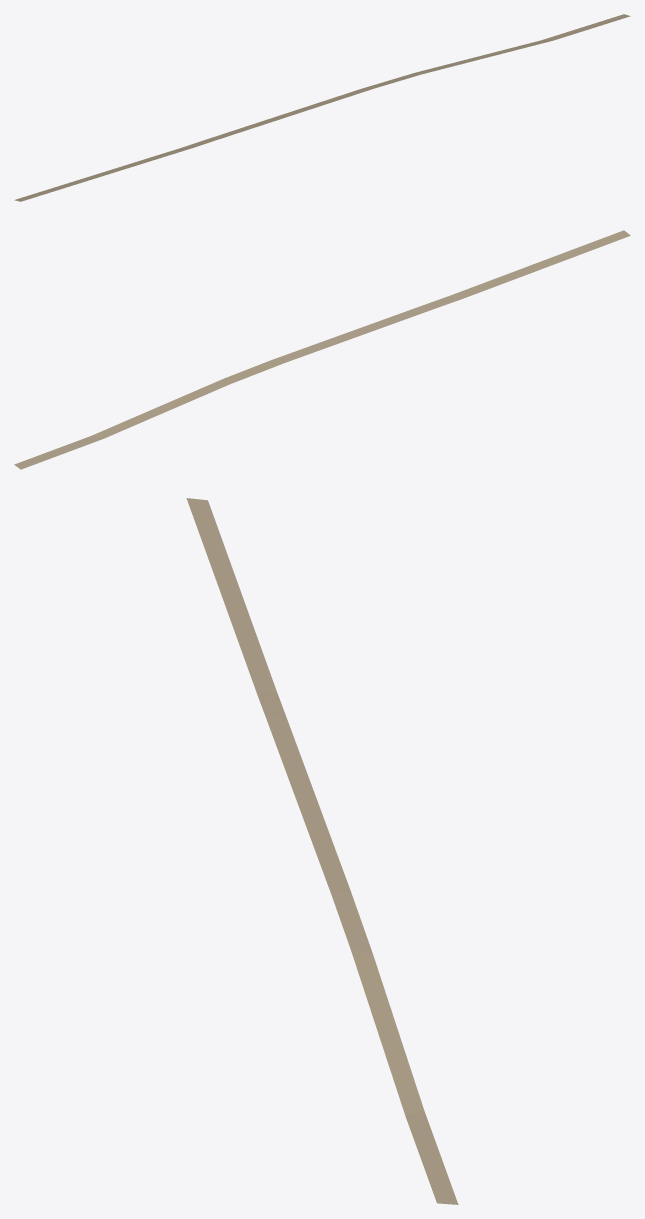
The model's file is farm_11_-2_track.glb.
3 views of the same model, one above another, from view 1: azimuth 30°, elevation 25°; view 2: azimuth 210°, elevation 25°; view 3: azimuth 270°, elevation 25° (orthographic). The views are drawn at different scales.
Visible parts, largest first — view 1: geometry_0; view 2: geometry_0; view 3: geometry_0.
Part boxes in pixels (left/top/right/bottom): geometry_0: left=14, top=14, right=630, bottom=201; geometry_0: left=14, top=230, right=630, bottom=469; geometry_0: left=186, top=498, right=458, bottom=1204.
Bounding box in the file's own units: 234 × 8.59 × 40.91.
